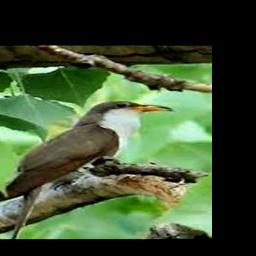Cuckoo: (0, 101, 175, 239)
